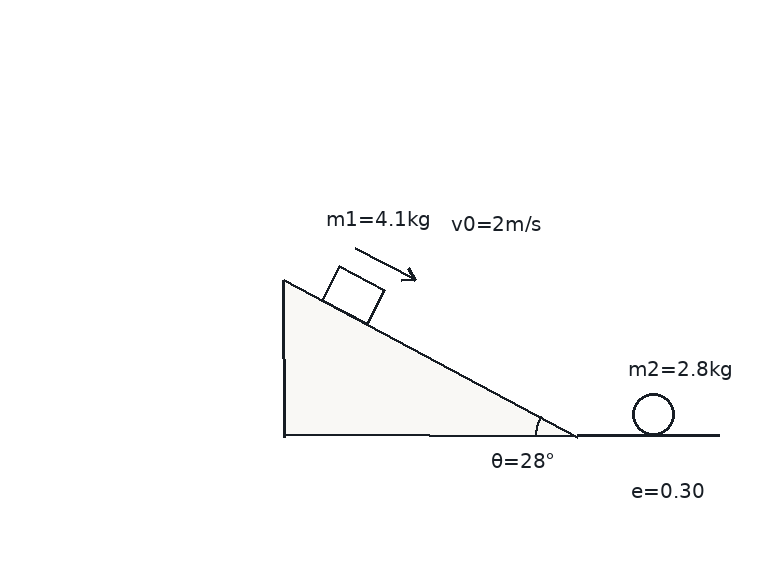ball: (630, 391, 676, 437)
block: (319, 265, 386, 325)
ramp: (282, 278, 578, 437)
